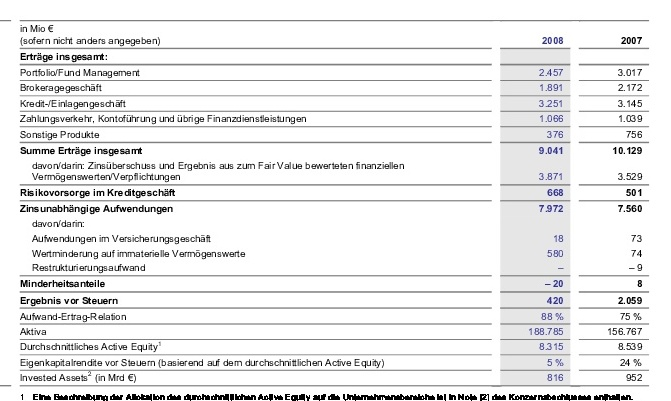table: (0, 0, 671, 401)
